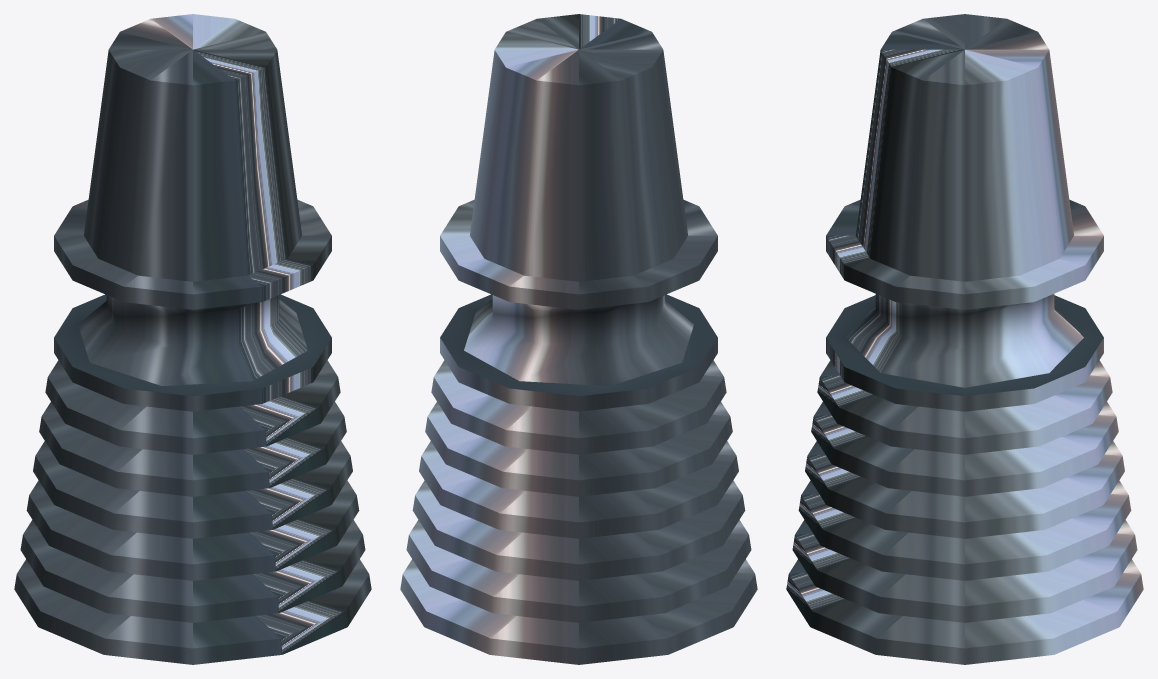
File: PegPlasticT26.fbx
3 renders of one model, left to right at view 1: azimuth 30°, elevation 25°; view 2: azimuth 150°, elevation 25°; view 3: azimuth 270°, elevation 25°, orthographic.
Visible parts, largest first — view 1: PegPlasticT26; view 2: PegPlasticT26; view 3: PegPlasticT26.
Boxes of the visible parts, bbox=[...] form: PegPlasticT26: bbox=[14, 14, 371, 664]; PegPlasticT26: bbox=[400, 14, 757, 664]; PegPlasticT26: bbox=[786, 14, 1143, 664].
Bounding box in the file's own units: 1.85 × 3.08 × 1.85.
1 material, 1 textured.
